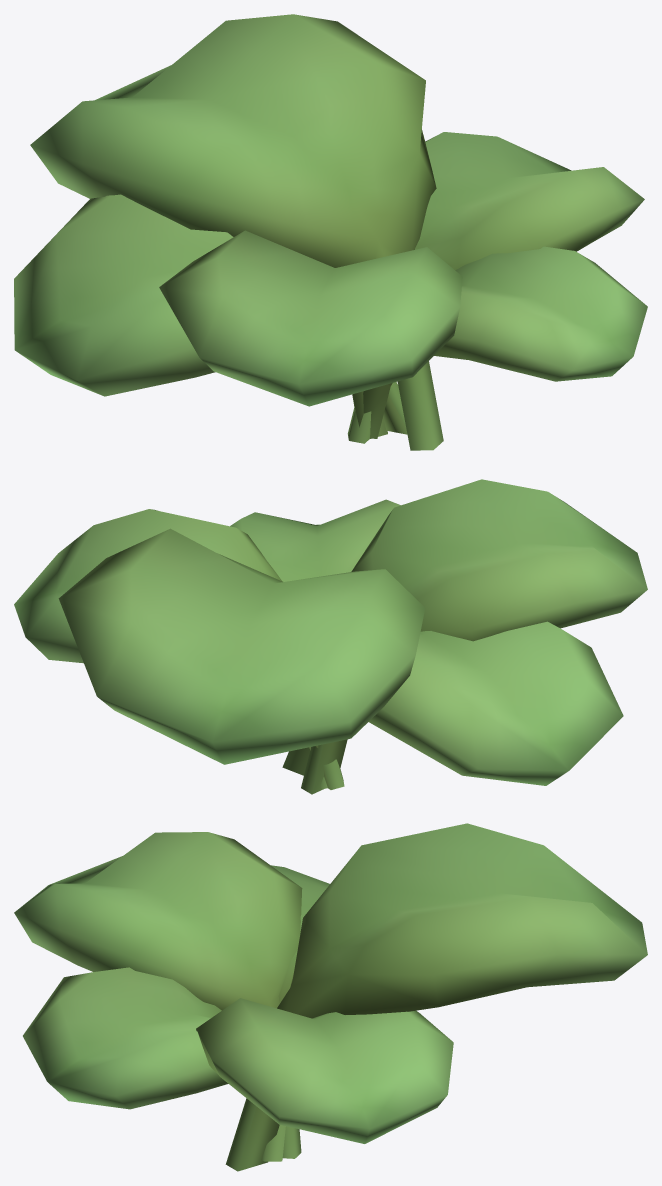
The model's file is 低多边形卡通风格绿色植被_SM_SM_cao.glb.
The picture shows the model from 3 angles, top to bottom: view 1: azimuth 30°, elevation 25°; view 2: azimuth 150°, elevation 25°; view 3: azimuth 270°, elevation 25°; orthographic projection. The views are drawn at different scales.
Visible parts, largest first — view 1: SM_SM_cao; view 2: SM_SM_cao; view 3: SM_SM_cao.
Boxes of the visible parts, <box> form: SM_SM_cao: <box>14,14,647,450</box>; SM_SM_cao: <box>14,479,647,794</box>; SM_SM_cao: <box>14,823,647,1171</box>.
Size of the model in its own units: 1.56 by 0.7976 by 1.62.
Materials: 1 (1 with a texture image).
